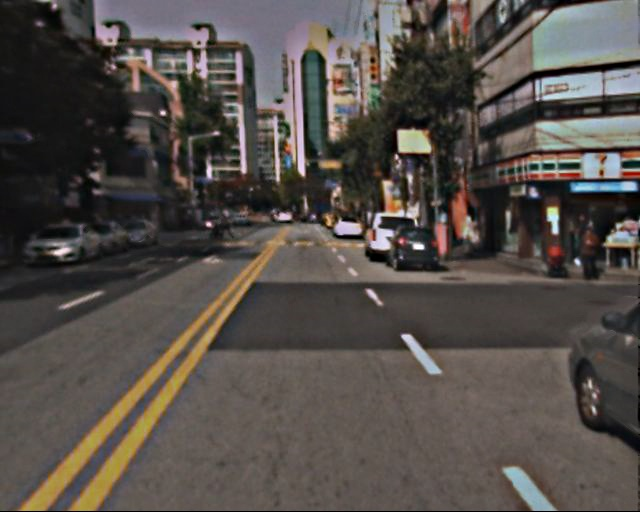person: (579, 218, 607, 284), (216, 210, 229, 242)
